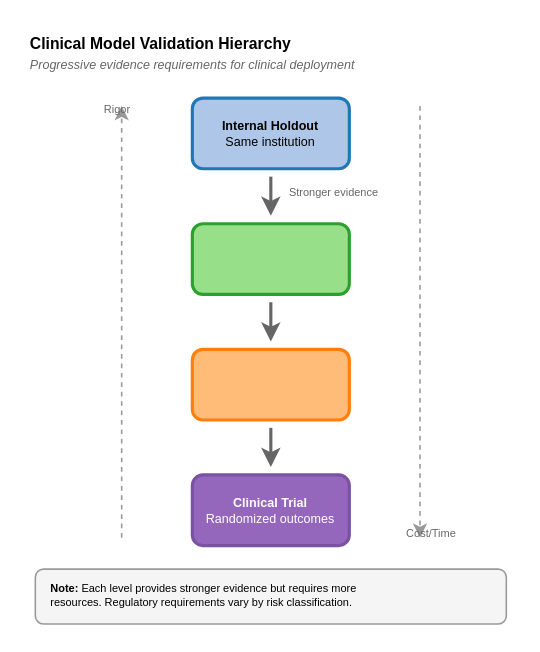
The diagram is 540 pixels wide and 652 high, and some of its shapes have lost their labels. The centre of each missing label's shape, as x and y in pixels:
"External Validation Different institution" goes at (270,258).
"Prospective Study Real-time testing" goes at (270,384).
